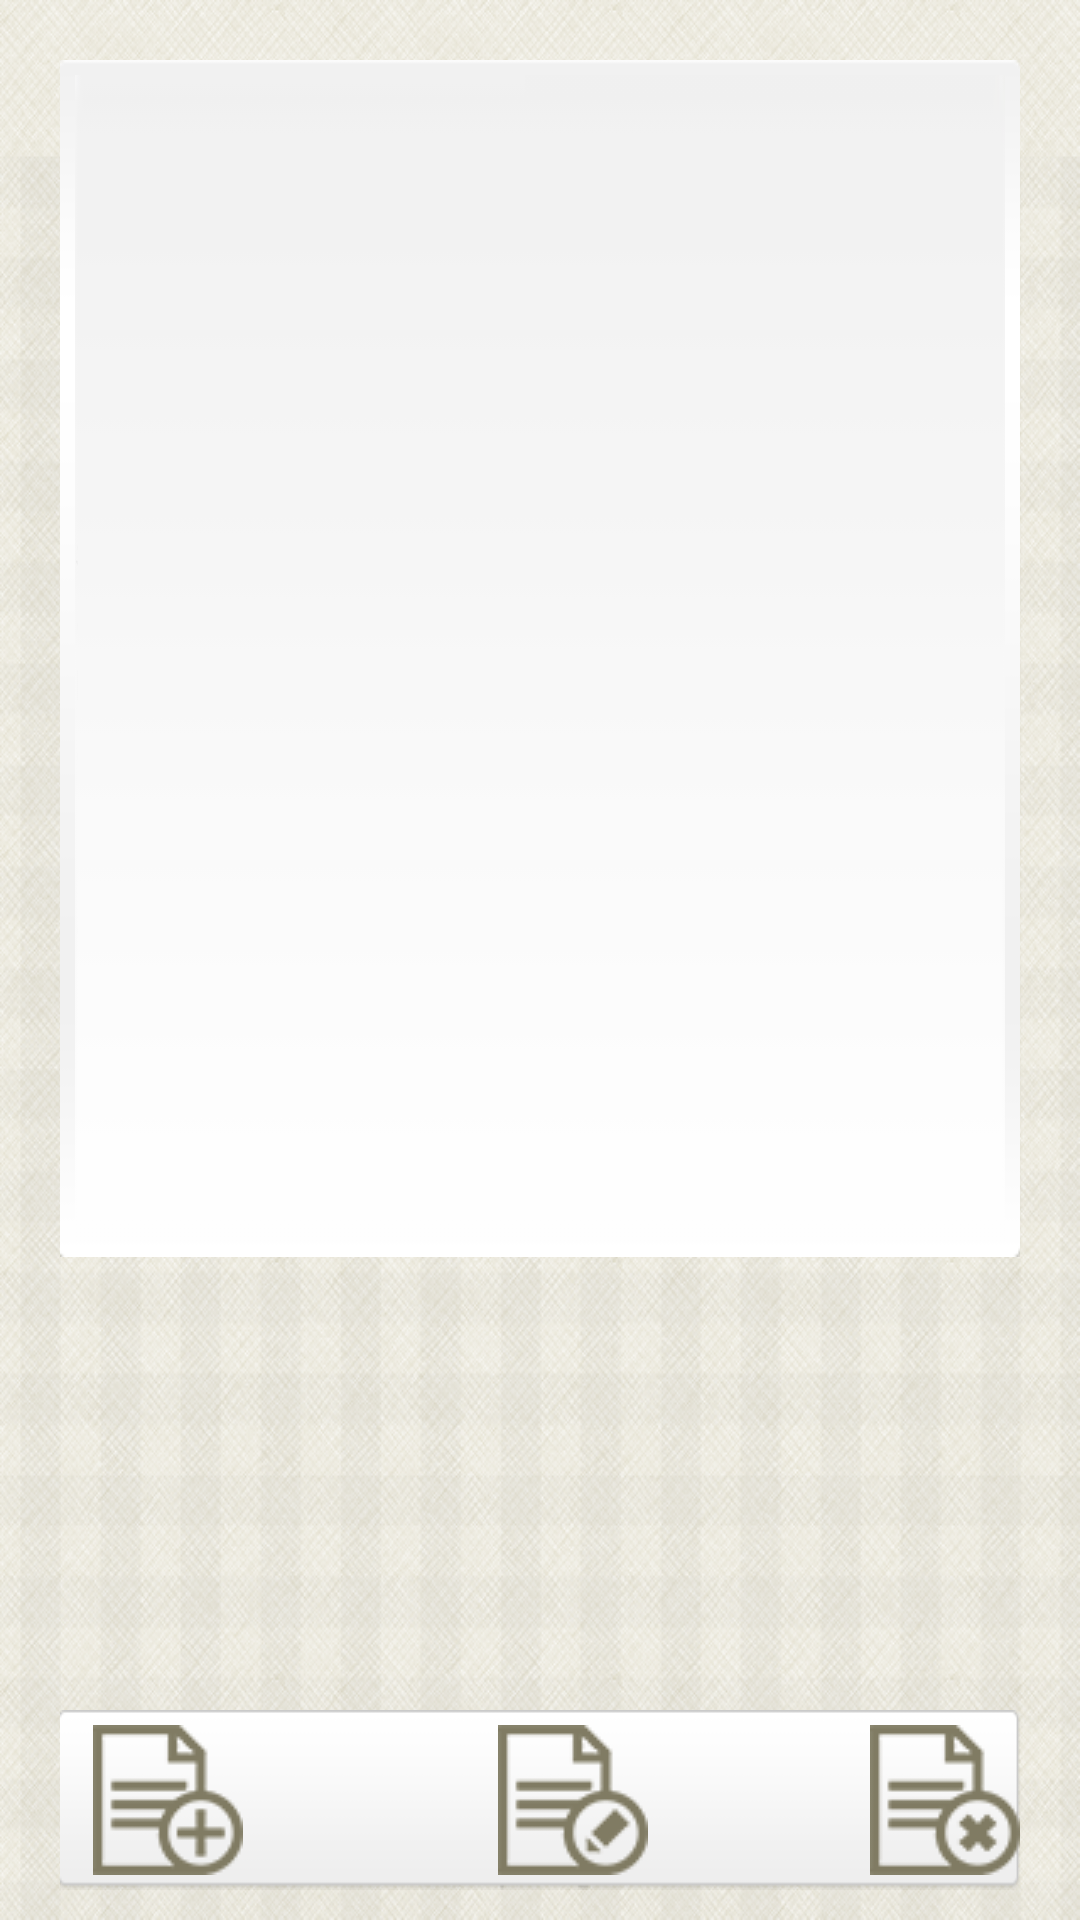

Where to tap for icons on this 1080w x 1920h app screen, as (x,y):
add: (168,1800)
delete: (945,1800)
edit: (573,1800)
